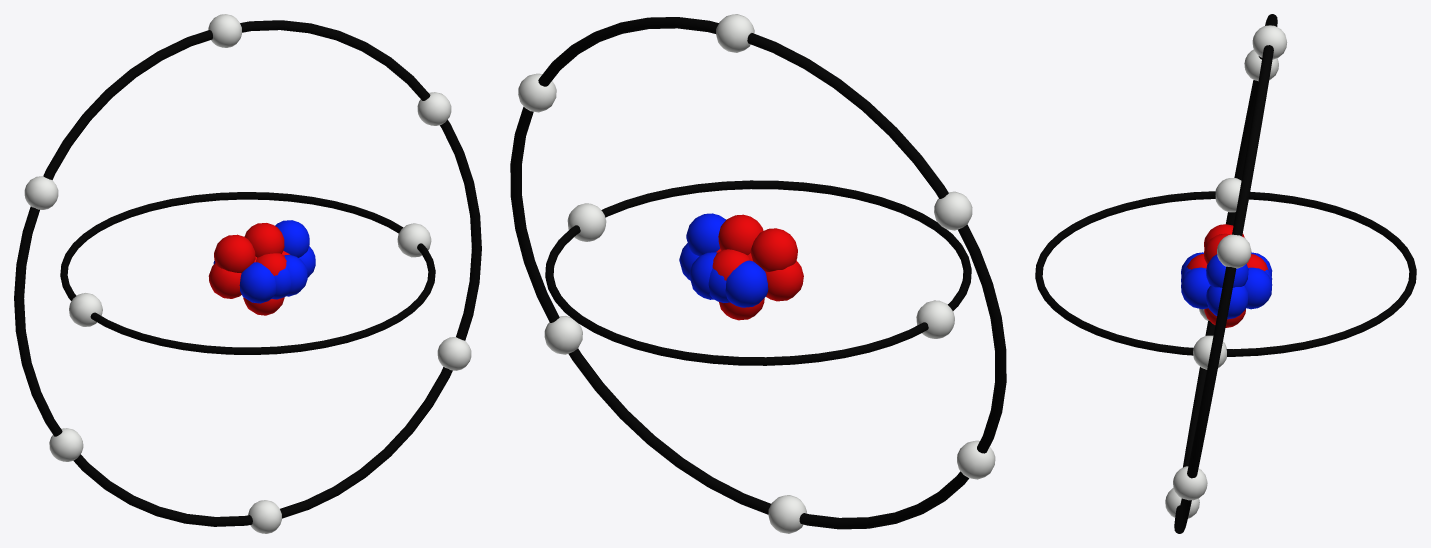
Rendered from 8 Oxigeno.fbx.
The picture shows the model from 3 angles, left to right: view 1: azimuth 30°, elevation 25°; view 2: azimuth 150°, elevation 25°; view 3: azimuth 270°, elevation 25°; orthographic projection. The views are drawn at different scales.
Visible parts, largest first — view 1: Orbita.002, Orbita.001, Sphere.014, Sphere.008, Sphere.007, Electron.008, Electron.007, Electron.006, Electron.005, Electron.003, Electron.002, Sphere.015 (+4 smaller); view 2: Orbita.002, Orbita.001, Sphere.014, Sphere, Sphere.007, Sphere.015, Electron.008, Electron.007, Electron.005, Electron.006, Electron.001, Electron.004 (+5 smaller); view 3: Orbita.001, Orbita.002, Electron.003, Sphere.009, Sphere.001, Sphere.013, Electron.007, Electron.005, Sphere.015, Electron.001, Electron.004, Electron.008 (+1 smaller).
Part boxes in pixels (box(x1,y1,x2,y2)): Orbita.002: box(14, 20, 481, 526); Orbita.001: box(60, 192, 435, 354); Sphere.014: box(214, 234, 255, 273); Sphere.008: box(239, 262, 275, 303); Sphere.007: box(244, 223, 284, 257); Electron.008: box(24, 176, 58, 209); Electron.007: box(437, 337, 471, 370); Electron.006: box(248, 500, 281, 533); Electron.005: box(208, 14, 241, 47); Electron.003: box(417, 92, 451, 125); Electron.002: box(49, 428, 83, 461); Sphere.015: box(275, 220, 309, 257); Orbita.002: box(510, 17, 1006, 529); Orbita.001: box(545, 180, 971, 365); Sphere.014: box(750, 228, 797, 271); Sphere: box(725, 260, 768, 307); Sphere.007: box(718, 214, 763, 255); Sphere.015: box(686, 213, 725, 256); Electron.008: box(934, 191, 972, 230); Electron.007: box(544, 316, 582, 354); Electron.005: box(716, 14, 754, 52); Electron.006: box(768, 495, 806, 533); Electron.001: box(916, 300, 954, 338); Electron.004: box(567, 203, 606, 241); Orbita.001: box(1035, 191, 1416, 356); Orbita.002: box(1174, 14, 1277, 533); Electron.003: box(1217, 234, 1251, 268); Sphere.009: box(1181, 267, 1210, 309); Sphere.001: box(1244, 267, 1272, 309); Sphere.013: box(1206, 285, 1248, 319); Electron.007: box(1173, 466, 1207, 500); Electron.005: box(1252, 25, 1287, 59); Sphere.015: box(1206, 254, 1248, 287); Electron.001: box(1215, 178, 1248, 212); Electron.004: box(1193, 335, 1226, 369); Electron.008: box(1244, 49, 1278, 81).
Bounding box in the file's own units: 7.43 × 10.27 × 10.59.
